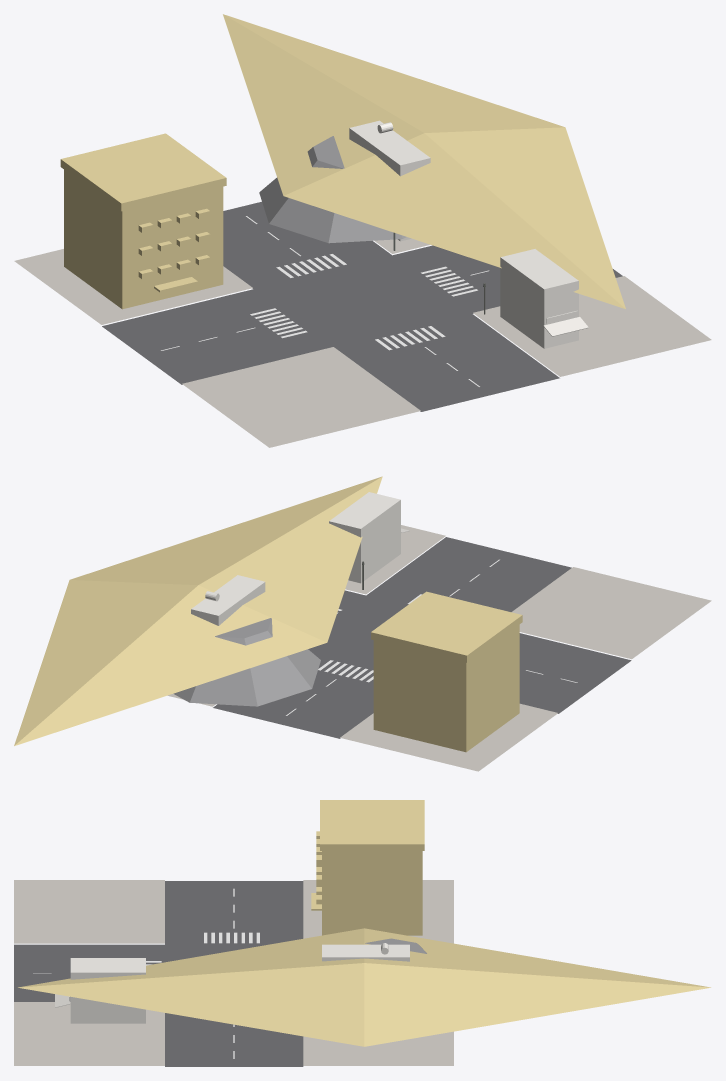
The model's file is Hue_Vertical_Slice_Detailed.fbx.
3 views of the same model, one above another, from view 1: azimuth 30°, elevation 25°; view 2: azimuth 150°, elevation 25°; view 3: azimuth 270°, elevation 25° (orthographic). The views are drawn at different scales.
Visible parts, largest first — view 1: Building_Shophouse_Colonial, Road_Intersection_Detailed, Sidewalk_Corner_Blocks, Building_Corner_Hotel, Building_Cafe_Awning, Prop_Tree_Planter, Building_Shophouse_Modern, Road_Markings_Zebra; view 2: Building_Shophouse_Colonial, Road_Intersection_Detailed, Building_Corner_Hotel, Sidewalk_Corner_Blocks, Prop_Tree_Planter, Building_Cafe_Awning, Building_Shophouse_Modern, Road_Markings_Zebra; view 3: Building_Shophouse_Colonial, Sidewalk_Corner_Blocks, Road_Intersection_Detailed, Building_Corner_Hotel, Building_Cafe_Awning, Building_Shophouse_Modern, Road_Markings_Zebra.
Boxes of the visible parts, bbox=[...] form: Building_Shophouse_Colonial: bbox=[223, 14, 625, 308]; Road_Intersection_Detailed: bbox=[102, 201, 622, 411]; Sidewalk_Corner_Blocks: bbox=[14, 238, 711, 447]; Building_Corner_Hotel: bbox=[60, 133, 226, 309]; Building_Cafe_Awning: bbox=[500, 249, 588, 348]; Prop_Tree_Planter: bbox=[259, 136, 406, 243]; Building_Shophouse_Modern: bbox=[349, 120, 430, 241]; Road_Markings_Zebra: bbox=[161, 216, 489, 386]; Building_Shophouse_Colonial: bbox=[14, 476, 382, 745]; Road_Intersection_Detailed: bbox=[213, 537, 631, 738]; Building_Corner_Hotel: bbox=[371, 591, 522, 752]; Sidewalk_Corner_Blocks: bbox=[167, 525, 711, 771]; Prop_Tree_Planter: bbox=[173, 618, 320, 706]; Building_Cafe_Awning: bbox=[329, 492, 409, 583]; Building_Shophouse_Modern: bbox=[191, 575, 265, 625]; Road_Markings_Zebra: bbox=[286, 559, 577, 715]; Building_Shophouse_Colonial: bbox=[18, 928, 710, 1046]; Sidewalk_Corner_Blocks: bbox=[14, 880, 453, 1065]; Road_Intersection_Detailed: bbox=[14, 881, 303, 1066]; Building_Corner_Hotel: bbox=[311, 800, 424, 935]; Building_Cafe_Awning: bbox=[55, 958, 145, 1023]; Building_Shophouse_Modern: bbox=[322, 943, 409, 961]; Road_Markings_Zebra: bbox=[33, 888, 259, 1058].
Bounding box in the file's own units: 79.01 × 16.38 × 111.
